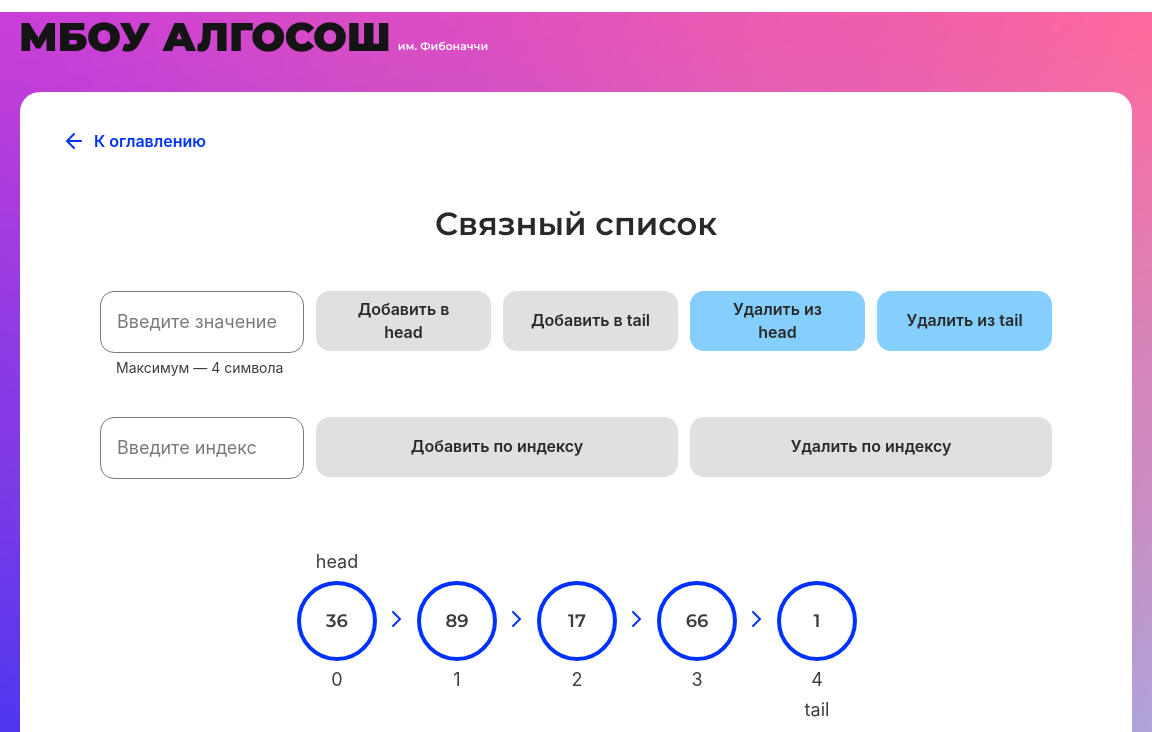
Test case: Страница Связный список отображается корректно › Элемент удаляется из tail
Click the button with test id "deletefromtailbutton" at (965, 321), box [877,291,1052,351]
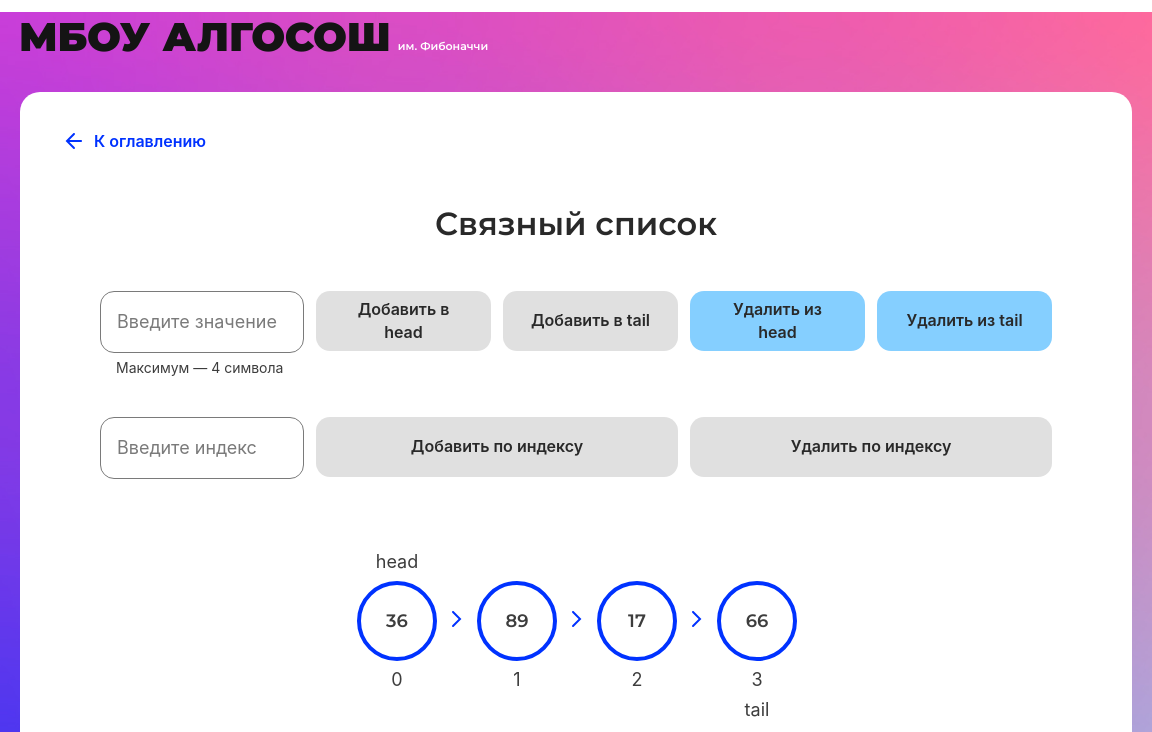
Check: the text "head" is shown, box [376,551,418,573]
Check: the number of elements with test id "circle" is 4, box [357,581,437,661]; [477,581,557,661]; [597,581,677,661]; [717,581,797,661]
Check: the number of elements with test id "arrow" is 3, box [442,607,466,635]; [562,607,586,635]; [682,607,706,635]
